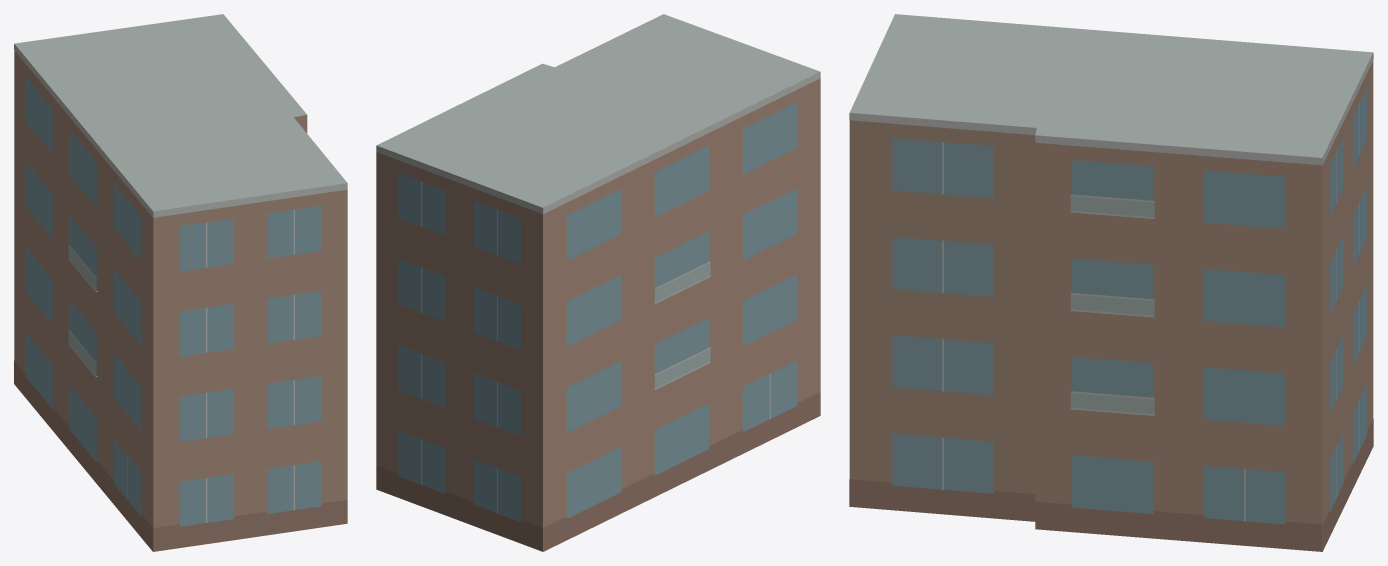
File: survey-upis-32904764.glb
3 views of the same model, side by side, from view 1: azimuth 30°, elevation 25°; view 2: azimuth 150°, elevation 25°; view 3: azimuth 270°, elevation 25° (orthographic). The views are drawn at different scales.
Parts seen in each view (by area): view 1: survey-upis-32904764.tmp; view 2: survey-upis-32904764.tmp; view 3: survey-upis-32904764.tmp.
Boxes of the visible parts, box(x1,y1,x2,y2) form: survey-upis-32904764.tmp: box(14, 14, 347, 551); survey-upis-32904764.tmp: box(376, 14, 820, 551); survey-upis-32904764.tmp: box(849, 14, 1373, 551).
Size of the model in its own units: 10.18 by 12.97 by 15.65.
